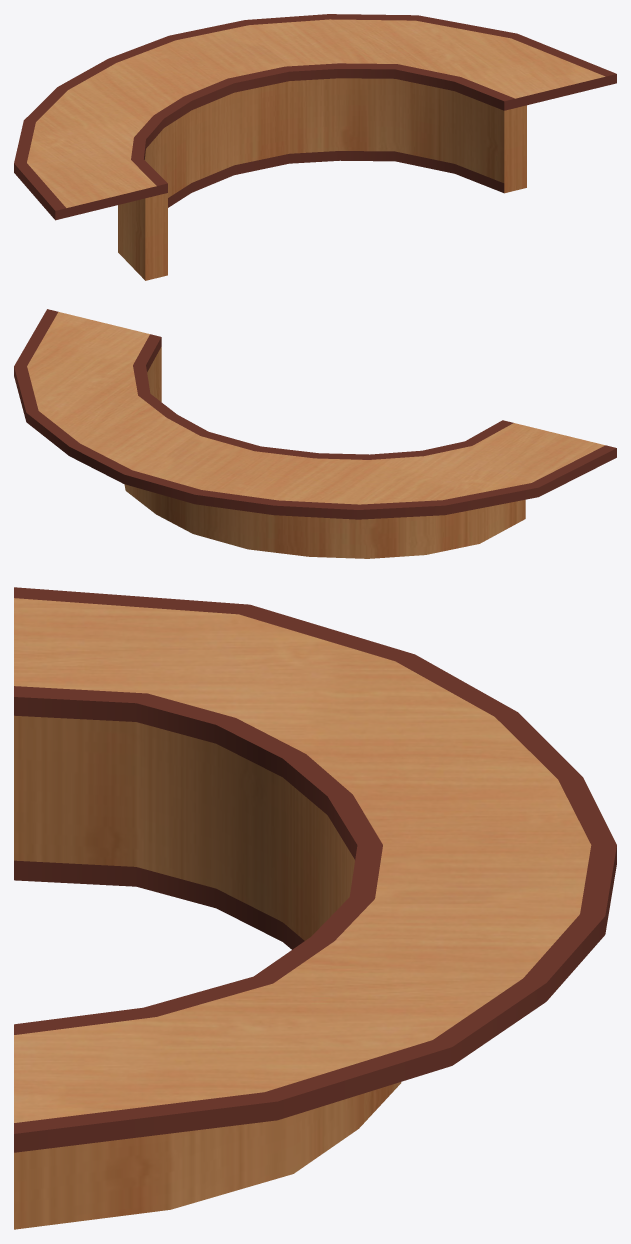
Rendered from conference table3_A.FBX.
3 renders of one model, top to bottom at view 1: azimuth 30°, elevation 25°; view 2: azimuth 150°, elevation 25°; view 3: azimuth 270°, elevation 25°, orthographic. The views are drawn at different scales.
Visible parts, largest first — view 1: conference table3_A; view 2: conference table3_A; view 3: conference table3_A.
Boxes of the visible parts, <box> form: conference table3_A: <box>14,14,616,280</box>; conference table3_A: <box>14,309,616,558</box>; conference table3_A: <box>14,587,616,1229</box>.
Bounding box in the file's own units: 49.84 × 7.8 × 23.23.
